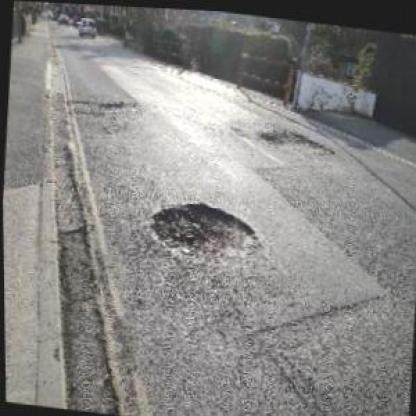pothole: (145, 191, 265, 268), (258, 122, 338, 155)
